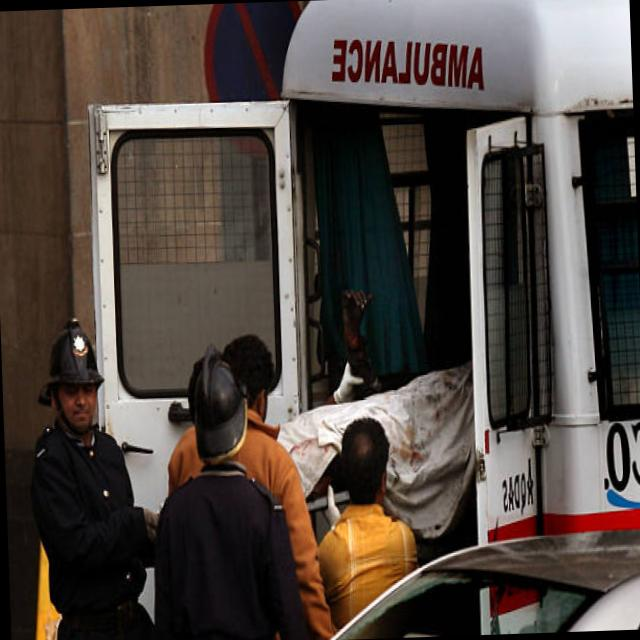ambulance: (320, 28, 502, 103)
